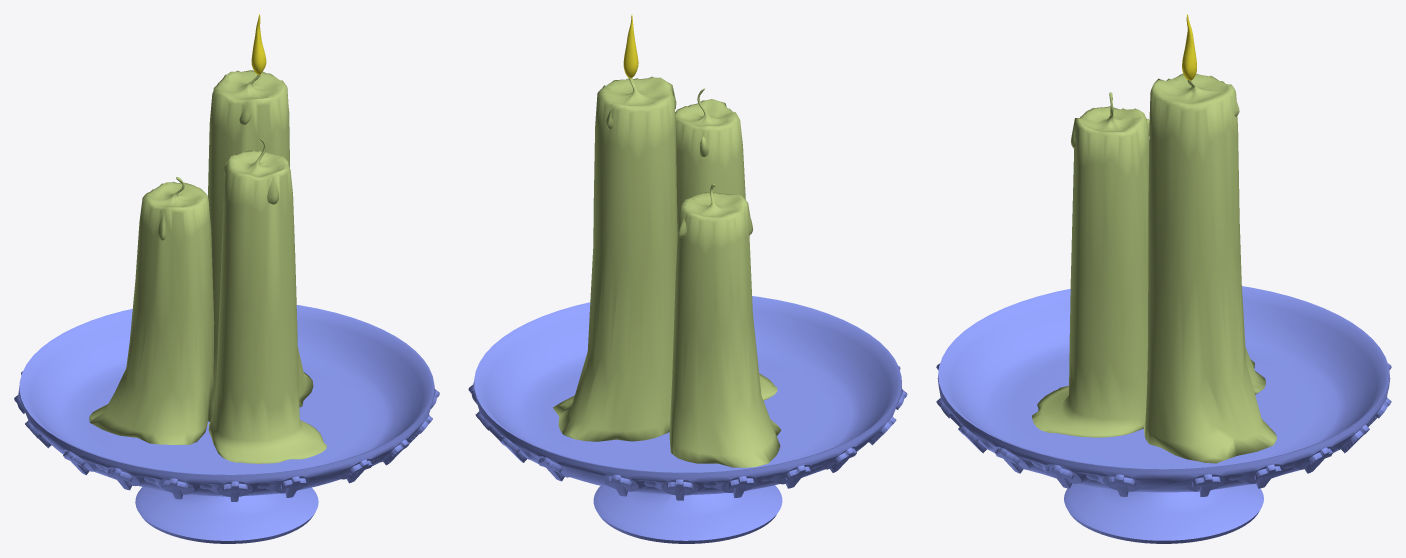
The picture shows the model from 3 angles, left to right: view 1: azimuth 30°, elevation 25°; view 2: azimuth 150°, elevation 25°; view 3: azimuth 270°, elevation 25°; orthographic projection. The views are drawn at different scales.
Visible parts, largest first — view 1: candles, candlestick, fire; view 2: candles, candlestick, fire; view 3: candles, candlestick, fire.
Part boxes in pixels (left/top/right/bottom): candles: left=89, top=70, right=326, bottom=463; candlestick: left=14, top=305, right=439, bottom=543; fire: left=251, top=14, right=266, bottom=74; candles: left=553, top=76, right=781, bottom=467; candlestick: left=468, top=296, right=907, bottom=543; fire: left=623, top=14, right=638, bottom=78; candles: left=1032, top=73, right=1276, bottom=463; candlestick: left=936, top=286, right=1391, bottom=543; fire: left=1182, top=14, right=1196, bottom=80.
Size of the model in its own units: 91.37 by 114 by 91.97.
